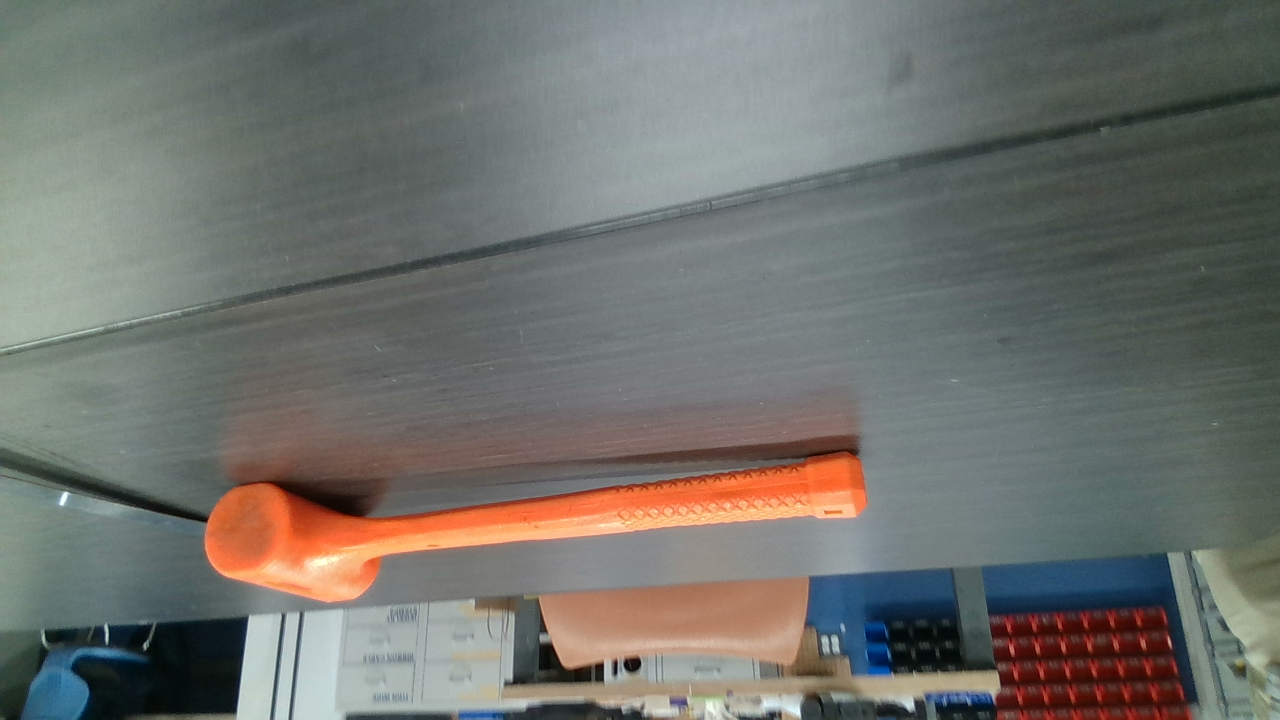Orange Hammer: (212, 449, 868, 601)
